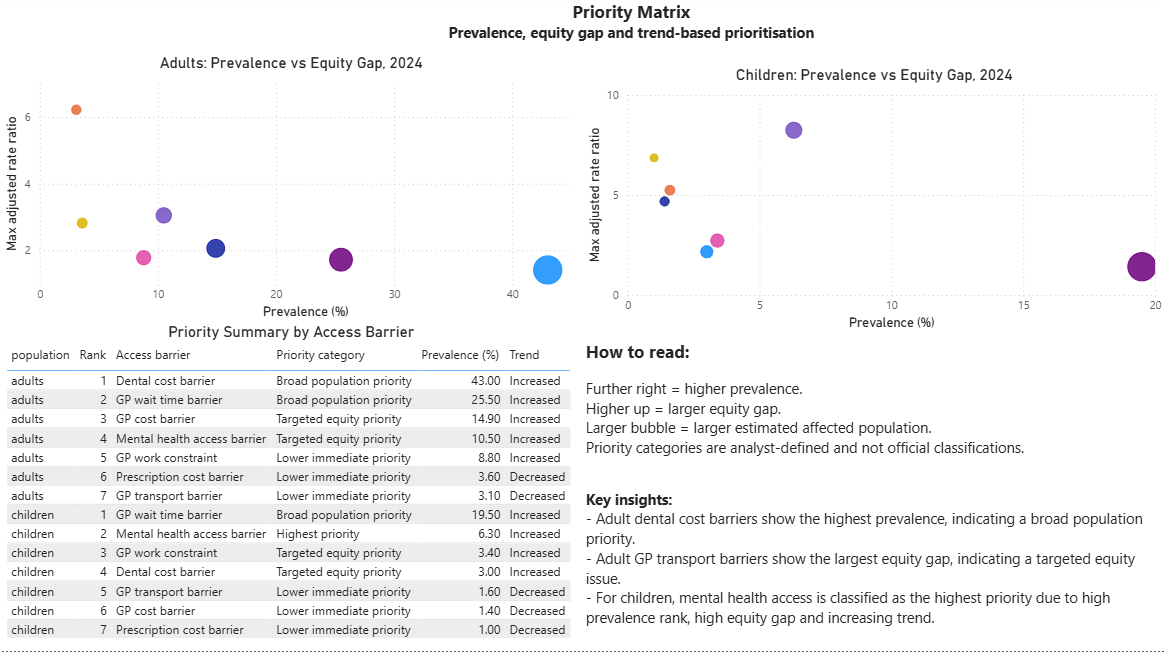

The page's visual inventory and layout, read from the dashboard file:
{"tool":"powerbi","page":{"name":"Priority Matrix","canvas":[1280,720],"ordinal":1},"visuals":[{"type":"tableEx","title":"Priority Summary by Access Barrier","fields":{"Values":["vw_priority_matrix.population","vw_priority_matrix.prevalence_rank","vw_priority_matrix.indicator_short_name","vw_priority_matrix.priority_category","vw_priority_matrix.total_value","vw_priority_matrix.trend_direction"]},"box":[1.4,359.5,636.7,360.9],"z":0},{"type":"scatterChart","title":"Adults: Prevalence vs Equity Gap, 2024","fields":{"X":["vw_priority_matrix.total_value"],"Y":["Avg(vw_priority_matrix.max_adjusted_rate_ratio)"],"Size":["Sum(vw_priority_matrix.estimated_number)"],"Series":["vw_priority_matrix.indicator_short_name"]},"box":[0,64.5,639.5,296.4],"z":1000},{"type":"scatterChart","title":"Children: Prevalence vs Equity Gap, 2024","fields":{"X":["vw_priority_matrix.total_value"],"Y":["Avg(vw_priority_matrix.max_adjusted_rate_ratio)"],"Size":["Sum(vw_priority_matrix.estimated_number)"],"Series":["vw_priority_matrix.indicator_short_name"]},"box":[639.5,76.8,640.8,296.4],"z":2000},{"type":"textbox","box":[638.1,373.2,642.2,347.2],"z":3000},{"type":"textbox","box":[341.7,0,702.6,64.5],"z":4000}]}

Visuals, with their boxes in screenshot pixels (x1, y1, x2, y2), scaled from the page's 1280x720 canvas onto the 1164x652 screenshot:
"Priority Summary by Access Barrier" tableEx: [1, 326, 580, 651]
"Adults: Prevalence vs Equity Gap, 2024" scatterChart: [0, 58, 582, 327]
"Children: Prevalence vs Equity Gap, 2024" scatterChart: [582, 70, 1163, 338]
textbox: [580, 338, 1163, 651]
textbox: [311, 0, 950, 58]
